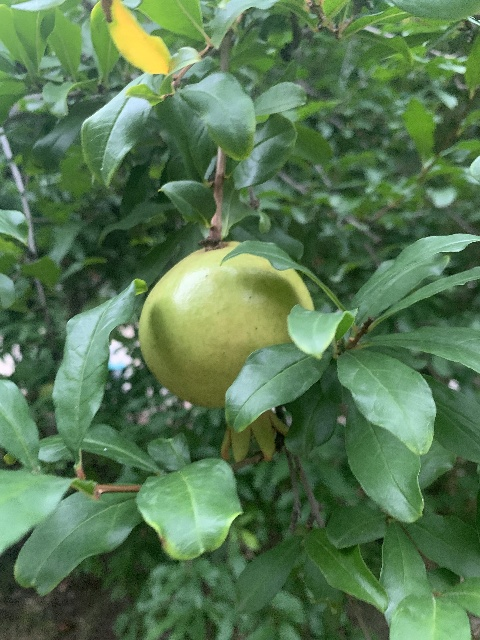mid-growth: (137, 243, 314, 464)
